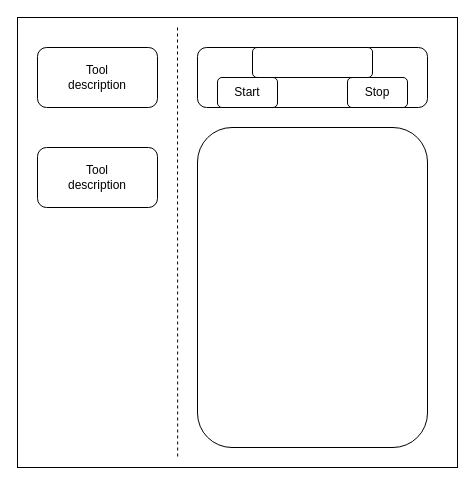
Image size: 475x485. Some labels were removed from this diagram. The box of each missing label's shape, as (x1, y1, x2, y2) in pixels:
Command: (252, 46, 372, 78)
shell output after command executed: (196, 126, 428, 448)
